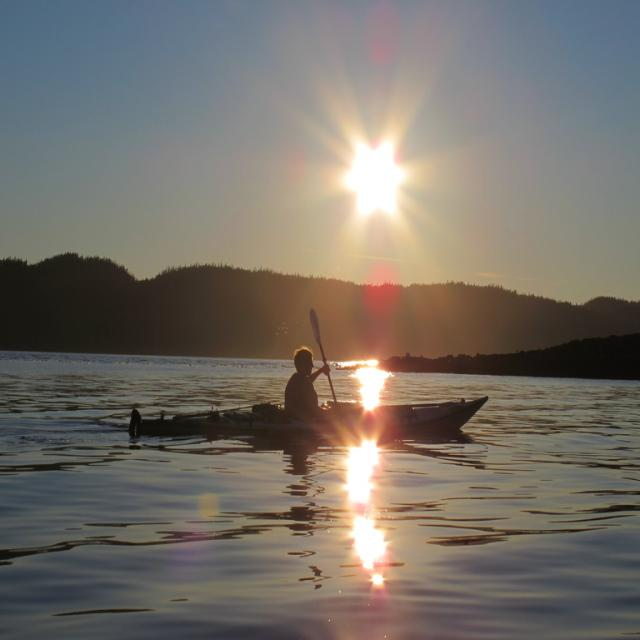Boat: (378, 387, 490, 436)
